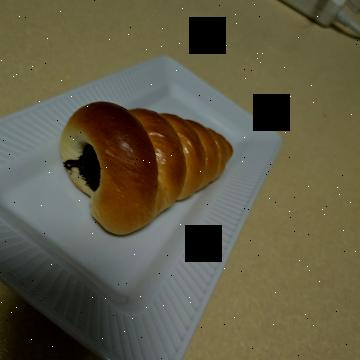cream horn: (96, 118, 254, 314)
